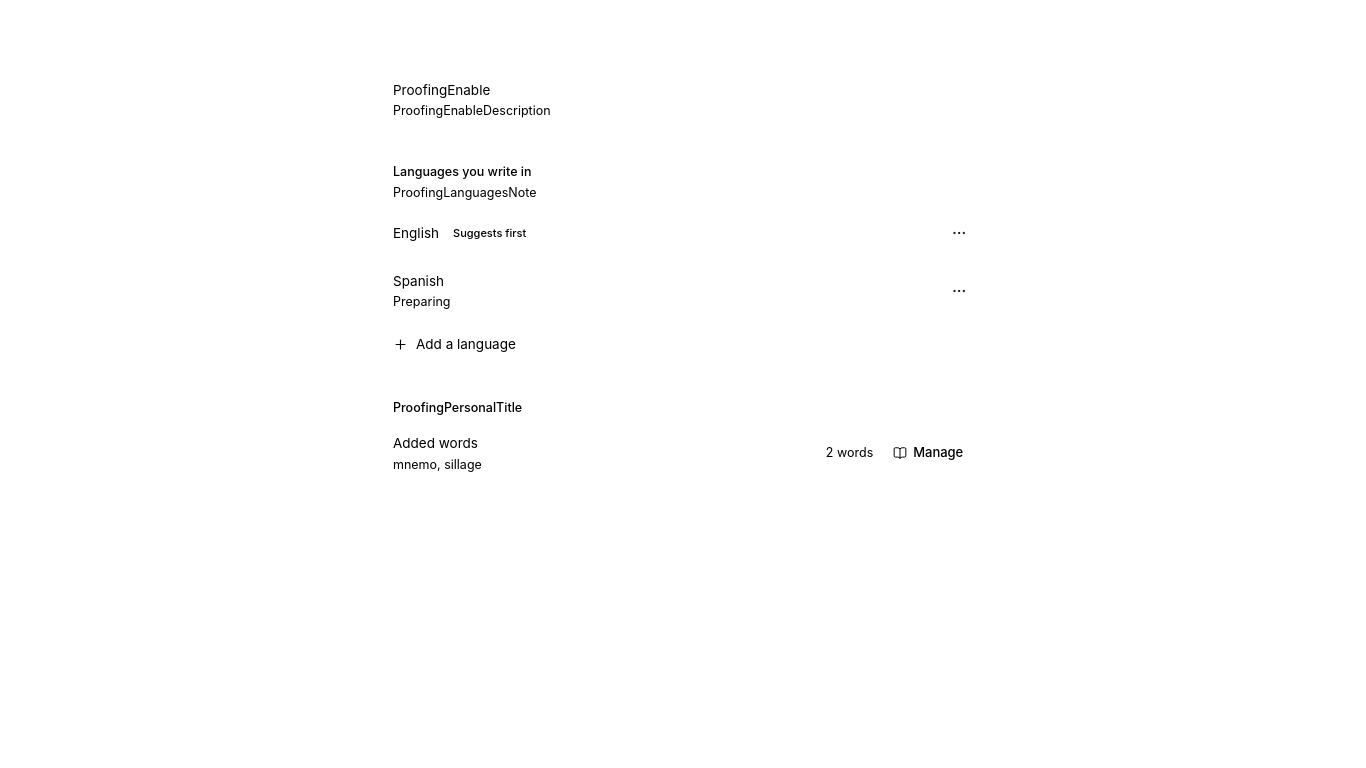
the spelling page with two languages on › opens the picker on demand and not before
The image size is (1366, 768).
What coordinates should you click on to do the following:
click the button "Add a language"
I would click on:
 (466, 344)
Its box is [393,322,973,367].
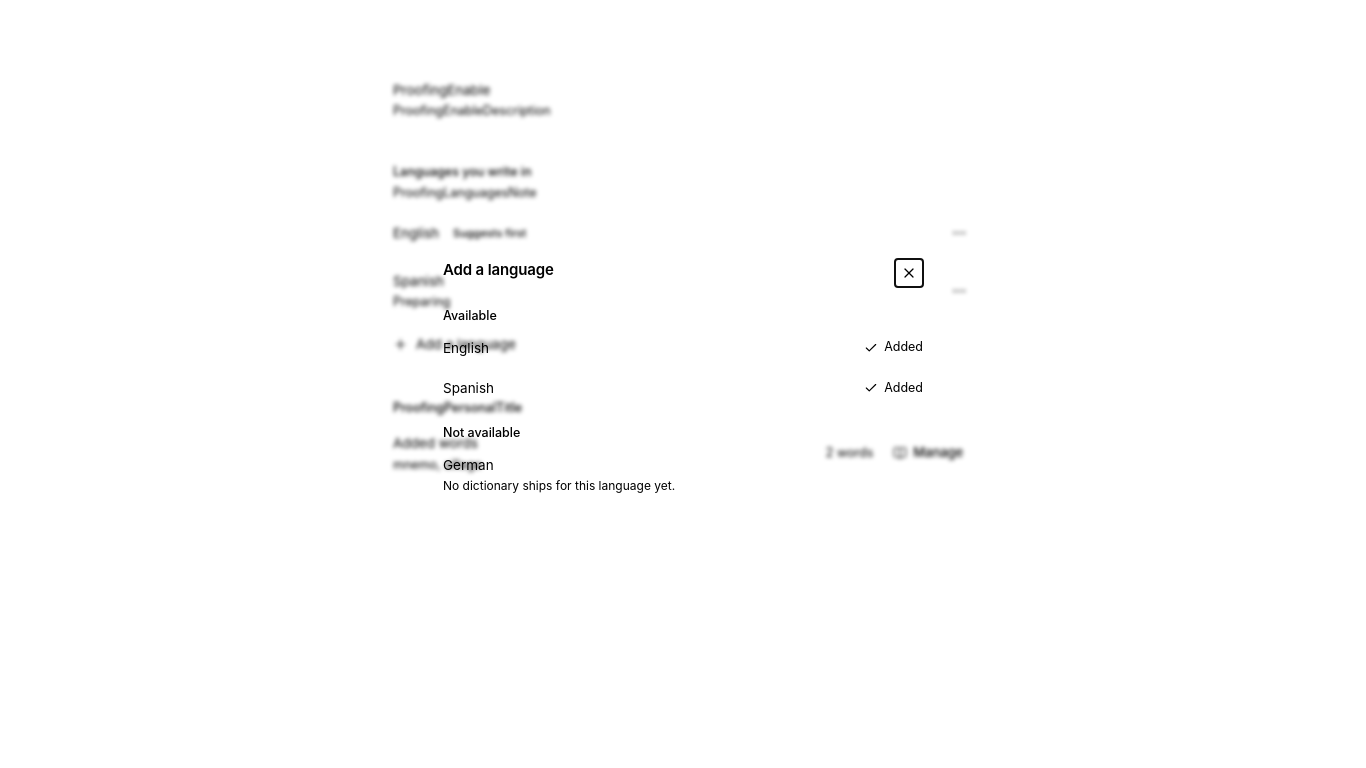
Expected: the dialog is shown, [423,243,943,525]
Expected: the dialog shows "No dictionary ships for this language yet.", [443,478,675,493]
Expected: the dialog shows "Added", [884,339,923,354]
